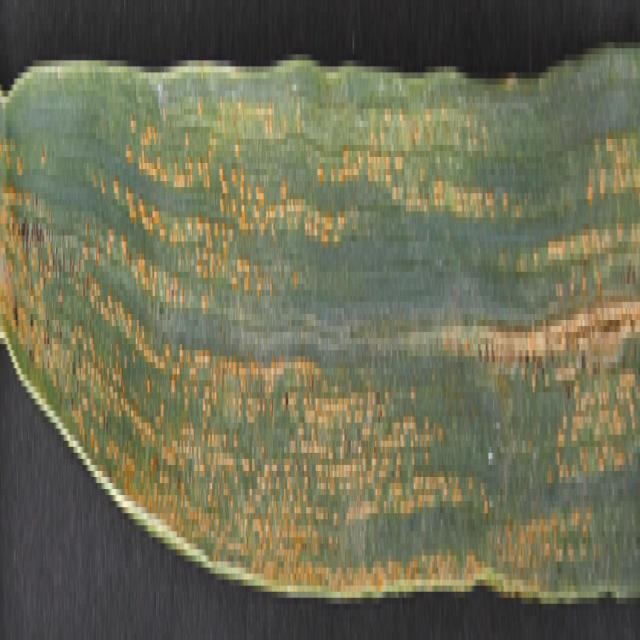leaf rust: (1, 61, 640, 580)
